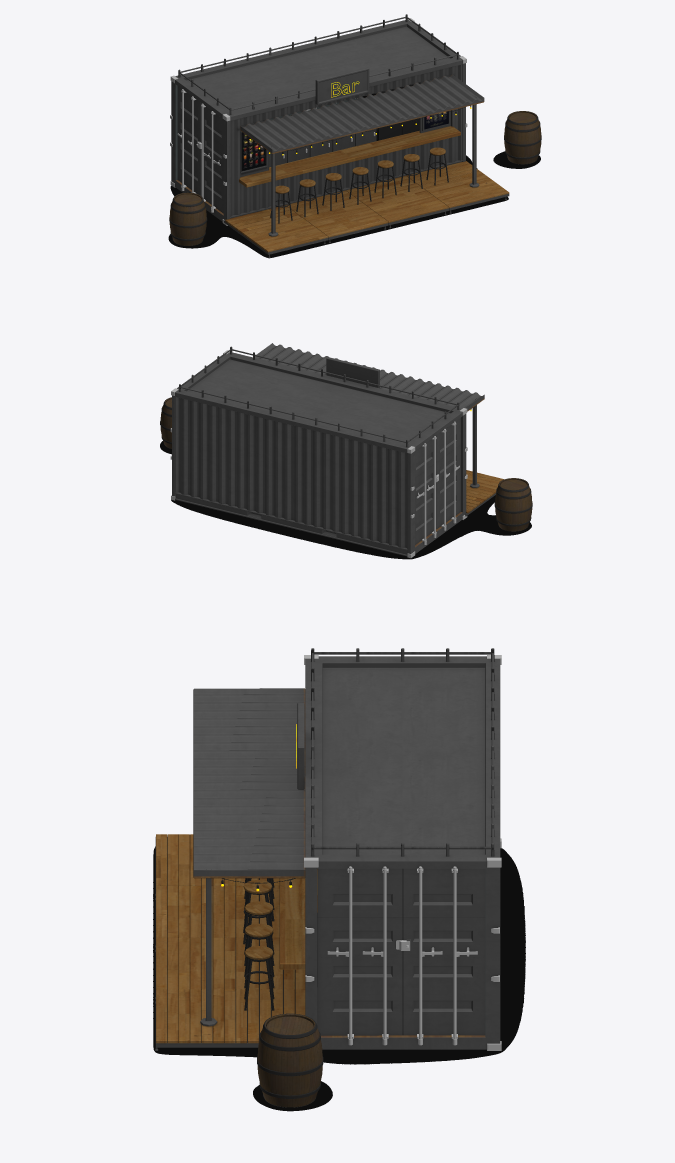
File: shipping-container-bar.fbx
The picture shows the model from 3 angles, top to bottom: view 1: azimuth 30°, elevation 25°; view 2: azimuth 150°, elevation 25°; view 3: azimuth 270°, elevation 25°; orthographic projection. The views are drawn at different scales.
Parts seen in each view (by area): view 1: Cube.019_Cube.015_walls_0, Cube.002_wood_0, Cube.019_Cube.002_walls_0, Cube.019_Cube.003_walls_0, Cube_wood_0, Plane.001_shadow_0, Cylinder.008_kitchen_0, Cylinder.007_kitchen_0, Cube.019_Cube.006_walls_0, Cube.001_walls_0, Cube.019_Cube.004_walls_0, Cube.008_signs_0 (+1 smaller); view 2: Cube.019_Cube.015_walls_0, Cube.019_Cube.003_walls_0, Plane.001_shadow_0, Cube.019_Cube.002_walls_0, Cylinder.007_kitchen_0, Cube.019_Cube.004_walls_0, Cube.019_Cube.006_walls_0, Cube.002_wood_0, Cylinder.008_kitchen_0; view 3: Cube.019_Cube.015_walls_0, Cube.019_Cube.003_walls_0, Cube.019_Cube.002_walls_0, Cube.002_wood_0, Plane.001_shadow_0, Cylinder.008_kitchen_0, Cube_wood_0, Cube.019_Cube.005_walls_0, Cube.019_Cube.004_walls_0, Cube.019_Cube.001_walls_0, Cube.018_kitchen_0.
Part boxes in pixels (<box>): Cube.019_Cube.015_walls_0: <box>171,20,479,236</box>; Cube.002_wood_0: <box>224,161,509,257</box>; Cube.019_Cube.002_walls_0: <box>240,74,484,153</box>; Cube.019_Cube.003_walls_0: <box>177,86,223,213</box>; Cube_wood_0: <box>239,126,460,187</box>; Plane.001_shadow_0: <box>168,151,540,258</box>; Cylinder.008_kitchen_0: <box>504,111,541,164</box>; Cylinder.007_kitchen_0: <box>169,192,207,245</box>; Cube.019_Cube.006_walls_0: <box>315,67,369,104</box>; Cube.001_walls_0: <box>269,128,376,167</box>; Cube.019_Cube.004_walls_0: <box>178,14,458,114</box>; Cube.008_signs_0: <box>240,131,267,173</box>; Cube.019_Cube.015_walls_0: <box>172,348,479,556</box>; Cube.019_Cube.003_walls_0: <box>415,418,460,544</box>; Plane.001_shadow_0: <box>160,441,531,559</box>; Cube.019_Cube.002_walls_0: <box>255,343,484,411</box>; Cylinder.007_kitchen_0: <box>494,478,532,531</box>; Cube.019_Cube.004_walls_0: <box>178,346,459,447</box>; Cube.019_Cube.006_walls_0: <box>326,357,379,388</box>; Cube.002_wood_0: <box>465,470,503,516</box>; Cylinder.008_kitchen_0: <box>160,397,171,448</box>; Cube.019_Cube.015_walls_0: <box>200,656,500,1049</box>; Cube.019_Cube.003_walls_0: <box>317,866,485,1045</box>; Cube.019_Cube.002_walls_0: <box>193,688,305,878</box>; Cube.002_wood_0: <box>155,834,305,1050</box>; Plane.001_shadow_0: <box>153,848,525,1111</box>; Cylinder.008_kitchen_0: <box>257,1013,323,1107</box>; Cube_wood_0: <box>279,869,317,969</box>; Cube.019_Cube.005_walls_0: <box>312,648,493,856</box>; Cube.019_Cube.004_walls_0: <box>311,648,494,856</box>; Cube.019_Cube.001_walls_0: <box>304,655,501,1050</box>; Cube.018_kitchen_0: <box>244,946,274,1010</box>.
Bounding box in the file's own units: 1207 × 314 × 832.
6 materials, 5 textured.
